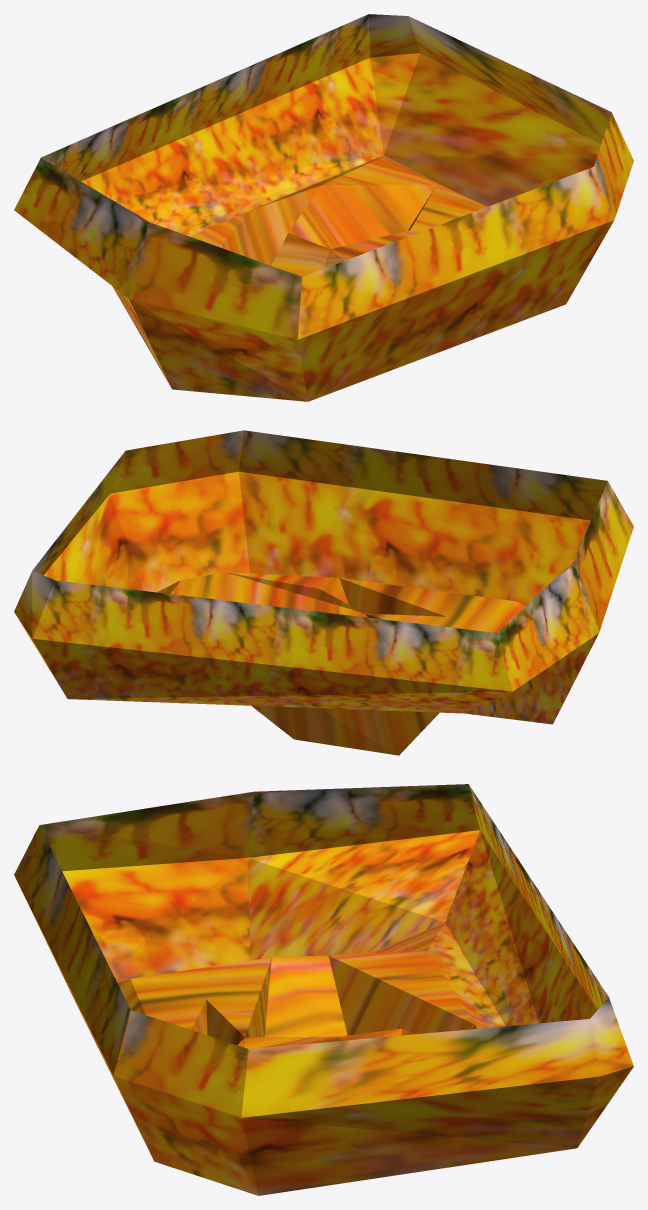
Rendered from Island_2_Lat.gltf.
The picture shows the model from 3 angles, top to bottom: view 1: azimuth 30°, elevation 25°; view 2: azimuth 150°, elevation 25°; view 3: azimuth 270°, elevation 25°; orthographic projection. The views are drawn at different scales.
Visible parts, largest first — view 1: Island_2_Lat; view 2: Island_2_Lat; view 3: Island_2_Lat.
Part boxes in pixels (x1,y1,x2,y2): Island_2_Lat: (14,14,633,401); Island_2_Lat: (14,430,633,755); Island_2_Lat: (14,784,633,1195).
Bounding box in the file's own units: 29.71 × 11.26 × 27.05.
Materials: 1 (1 with a texture image).
